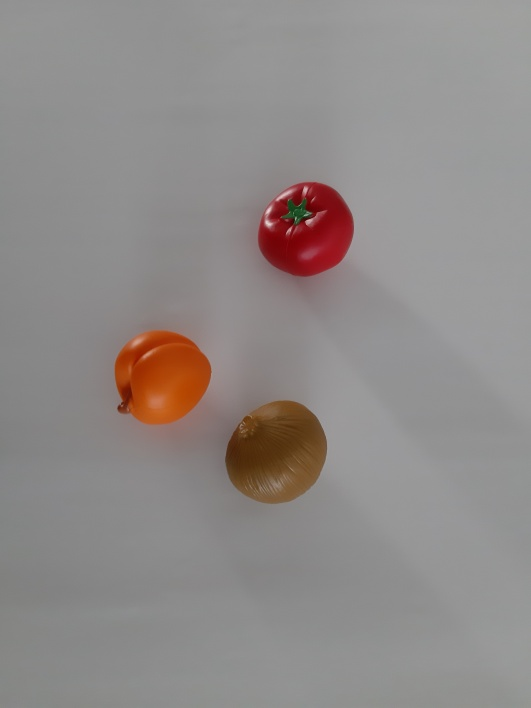apricot: (89, 311, 217, 451)
onion: (212, 388, 345, 510)
tomato: (242, 163, 370, 306)
